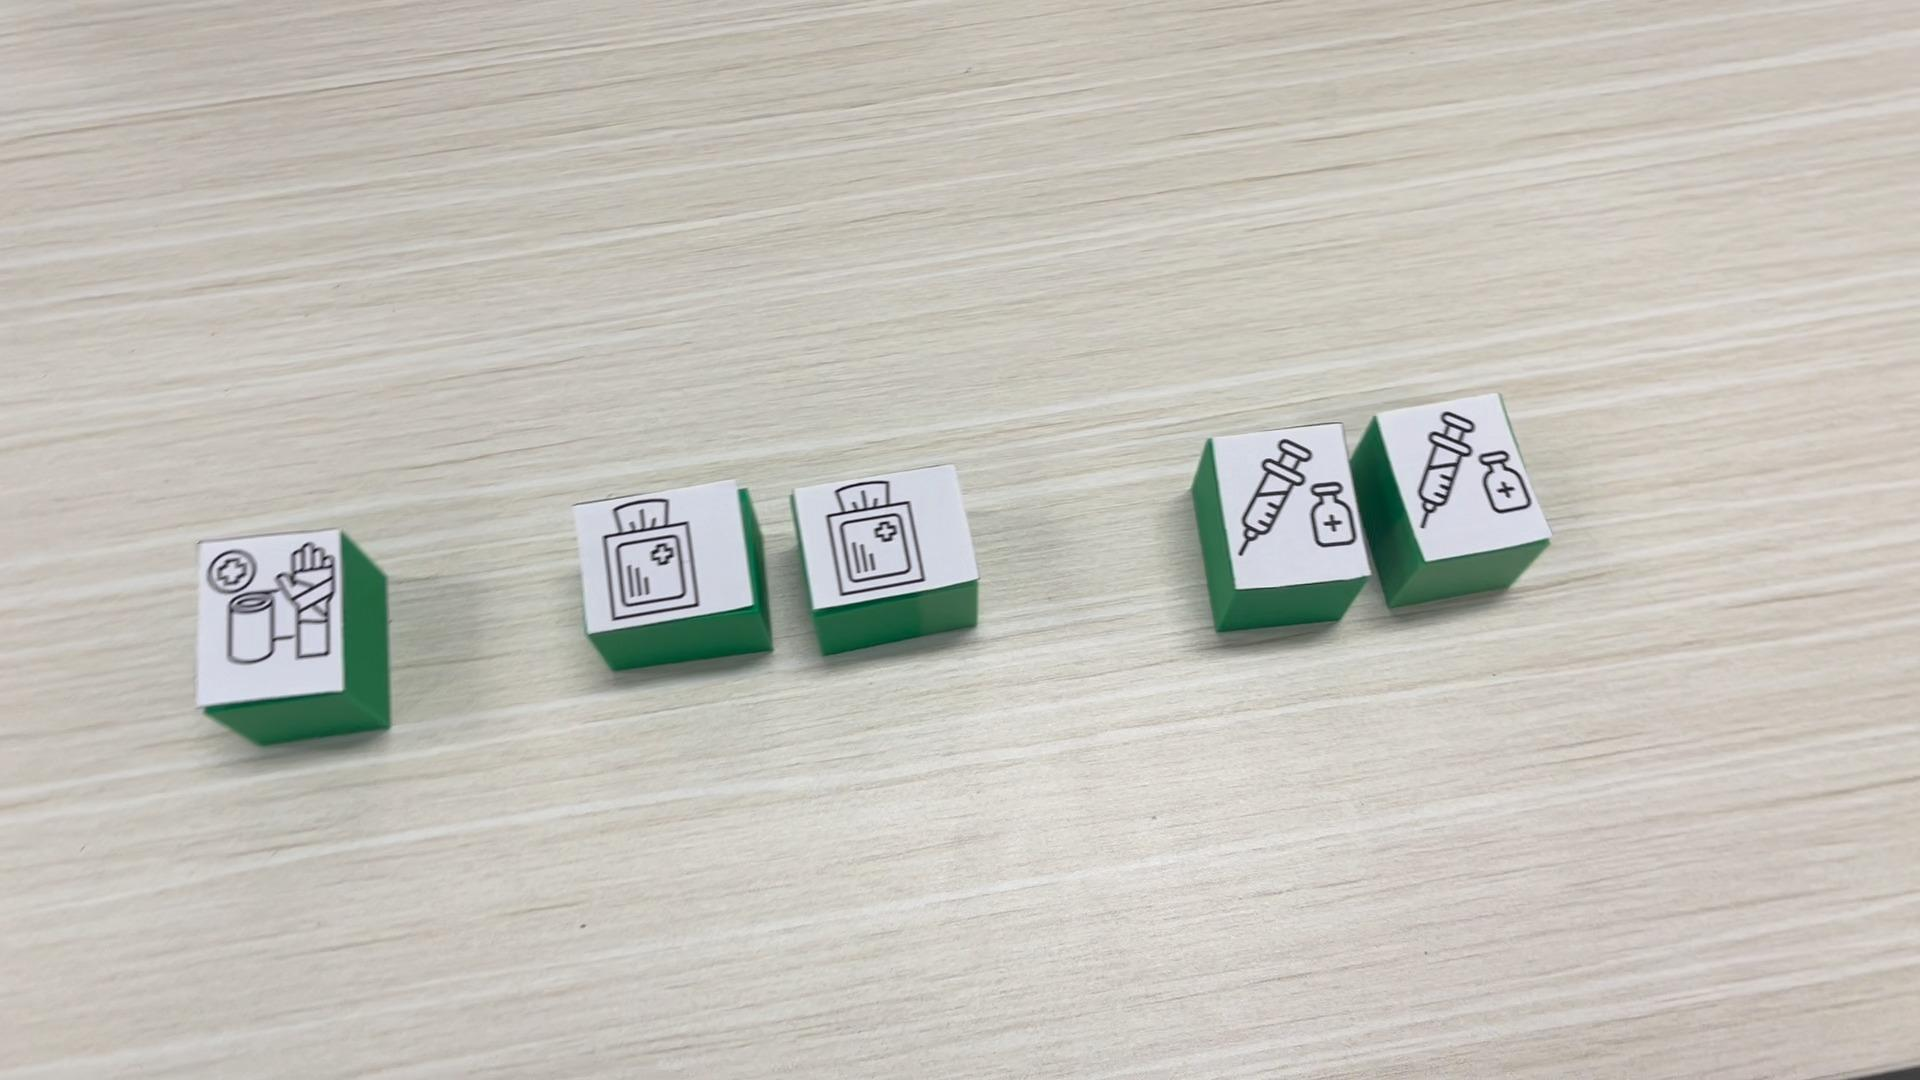Bandages: (196, 526, 392, 746)
Gauze: (570, 476, 778, 678), (791, 463, 982, 657)
antiseptic cream: (1364, 389, 1553, 611), (1188, 423, 1377, 634)
